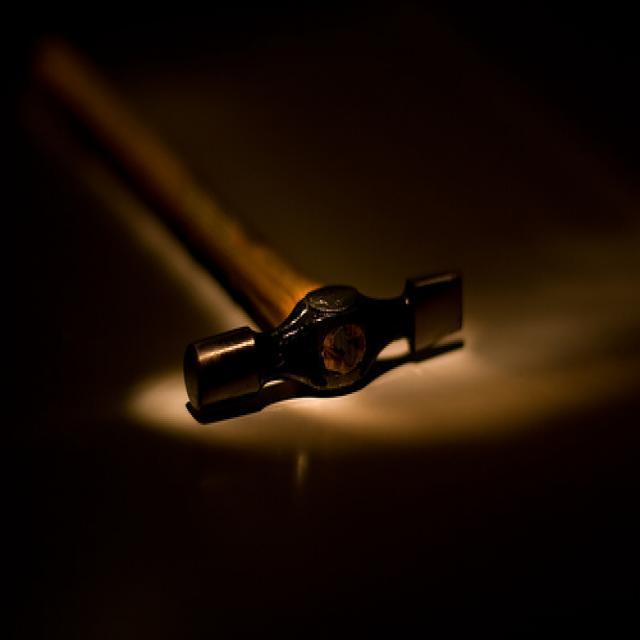hammer: (2, 0, 476, 423)
